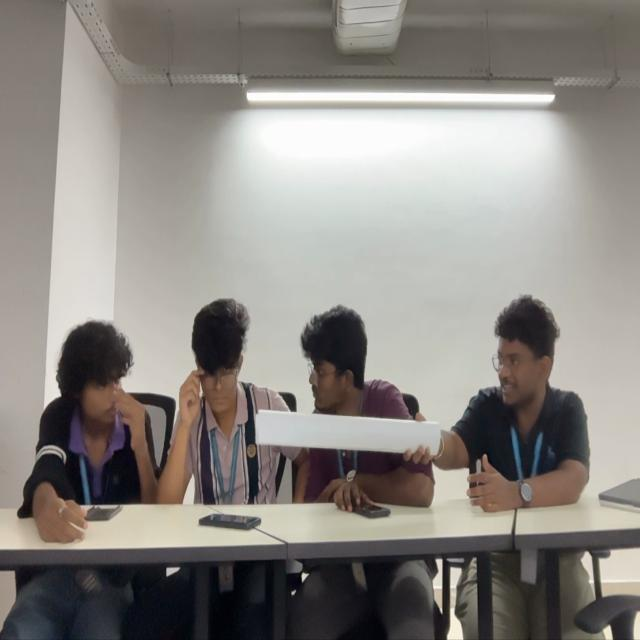Isolated: (451, 294, 590, 496)
socializing: (15, 296, 434, 532)
